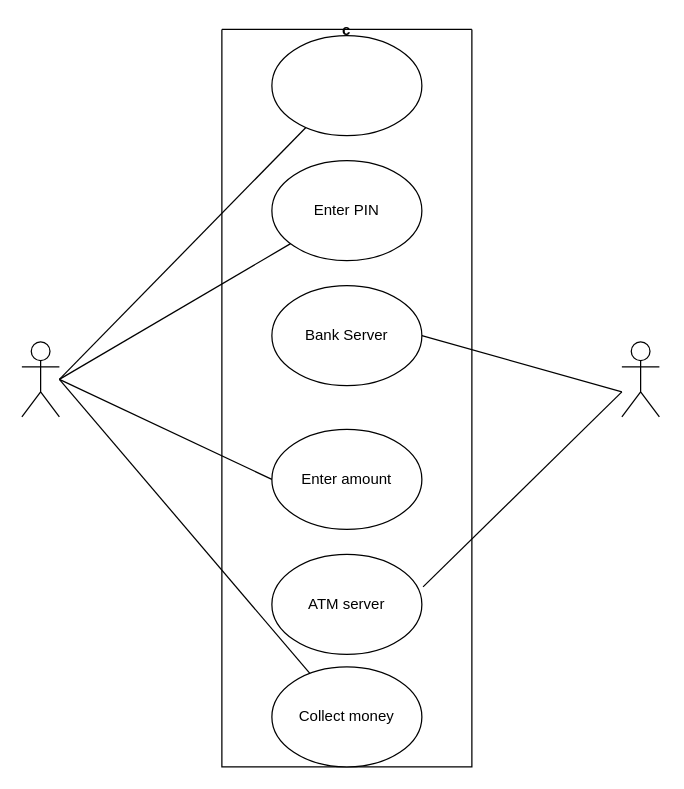
Image size: 684x789. Some labels were removed from this diagram. The shapes that lost their labels are listed below. From the top down, each one's box as (x1, y1, x2, y2) in pixels, then its label:
(271, 34, 422, 136): Insert ATM
(21, 341, 59, 417): user
(621, 341, 659, 417): Admin
